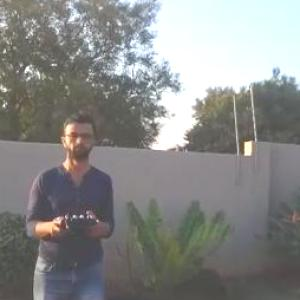follow: (20, 106, 117, 299)
